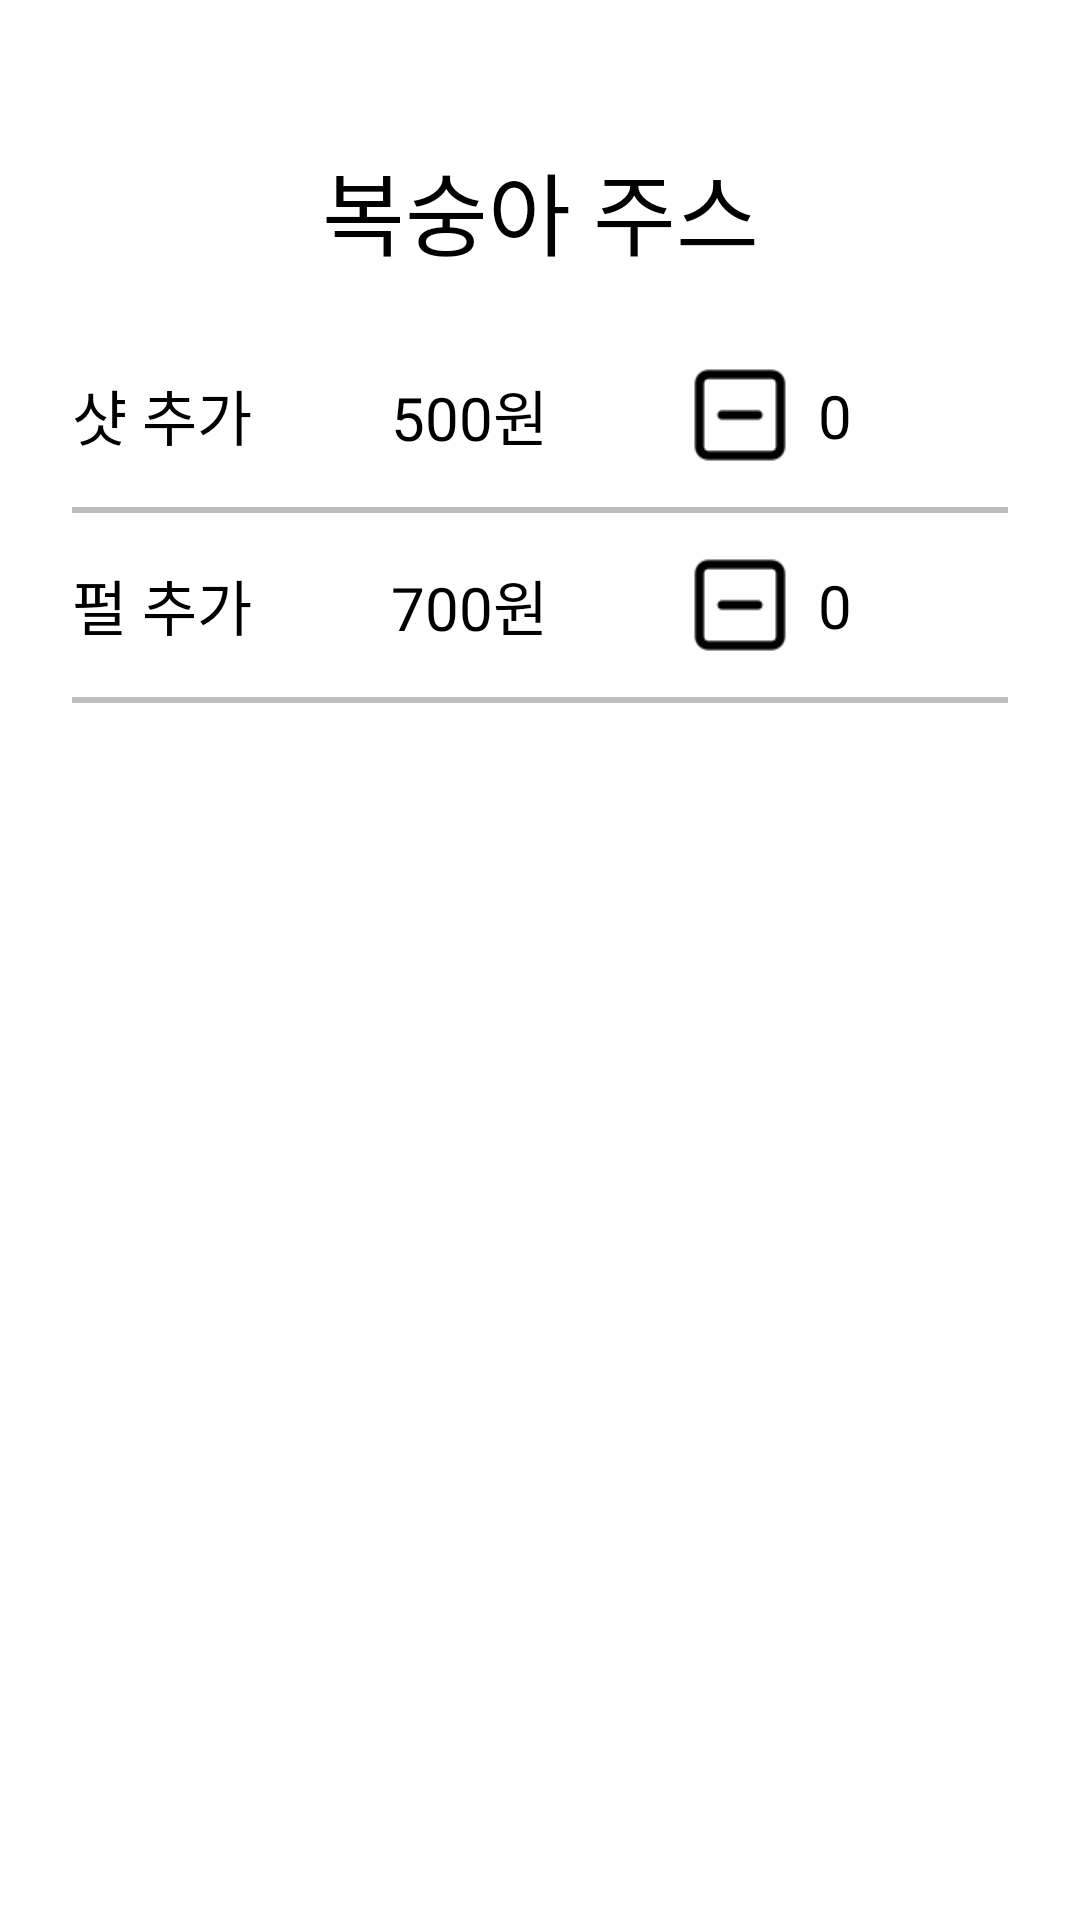

Screen size 1080x1920. Icon name, then its box in pixels as (x1,y1,x2,y2):
square minus: (694,369,786,461), (694,559,786,651)
